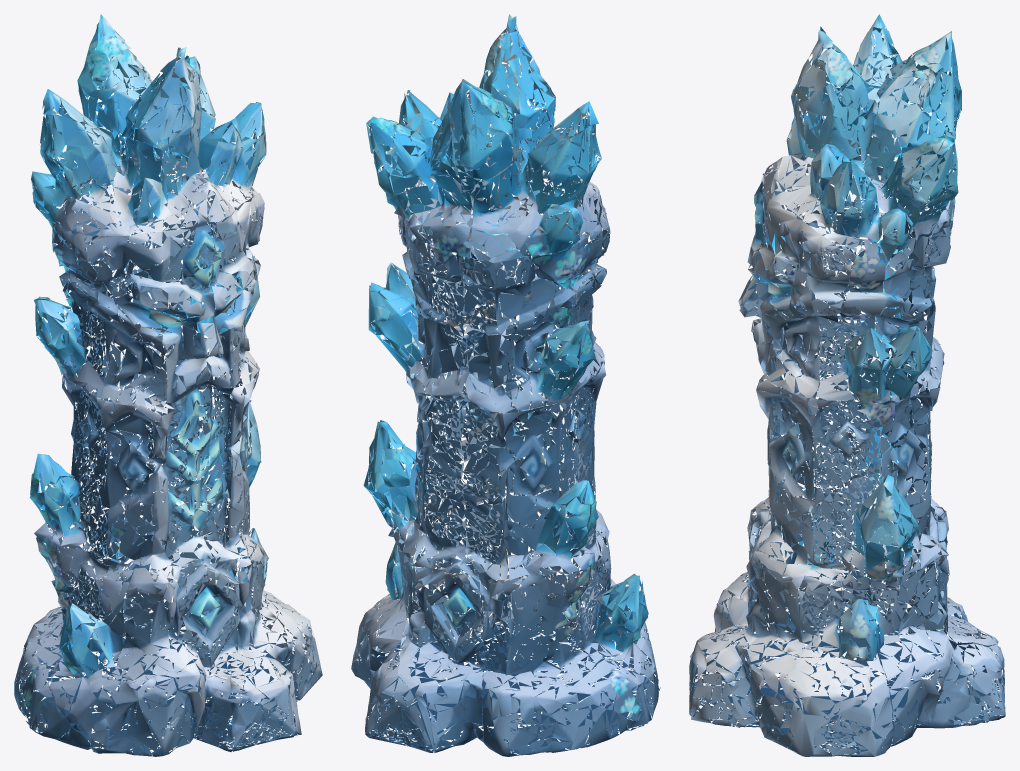
File: Trap_Totem.fbx
3 renders of one model, left to right at view 1: azimuth 30°, elevation 25°; view 2: azimuth 150°, elevation 25°; view 3: azimuth 270°, elevation 25°, orthographic.
Visible parts, largest first — view 1: Totem; view 2: Totem; view 3: Totem.
Part boxes in pixels (<box>): Totem: <box>14,14,322,756</box>; Totem: <box>351,14,660,756</box>; Totem: <box>689,14,1005,756</box>.
Bounding box in the file's own units: 105 × 240 × 103.
1 material, 1 textured.
